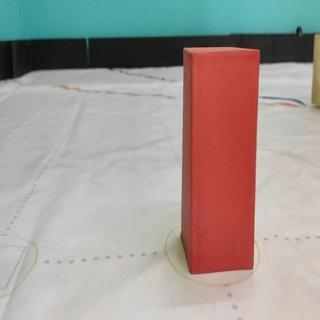redbox: (181, 45, 259, 276)
